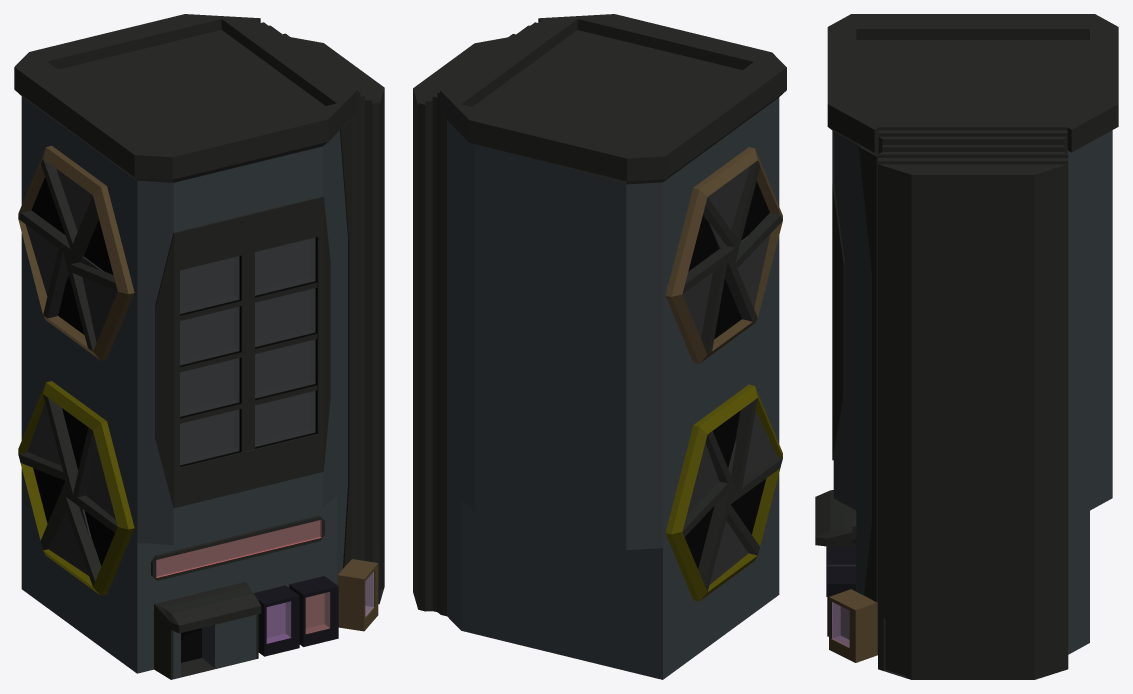
Rendered from CybP-OldApt.fbx.
3 renders of one model, left to right at view 1: azimuth 30°, elevation 25°; view 2: azimuth 150°, elevation 25°; view 3: azimuth 270°, elevation 25°, orthographic.
Parts seen in each view (by area): view 1: CybP_OldApt; view 2: CybP_OldApt; view 3: CybP_OldApt.
Boxes of the visible parts, x1,y1,x2,y2 form: CybP_OldApt: (14, 14, 384, 679); CybP_OldApt: (413, 14, 786, 679); CybP_OldApt: (815, 14, 1118, 679).
Bounding box in the file's own units: 11.46 × 19.96 × 10.39.
